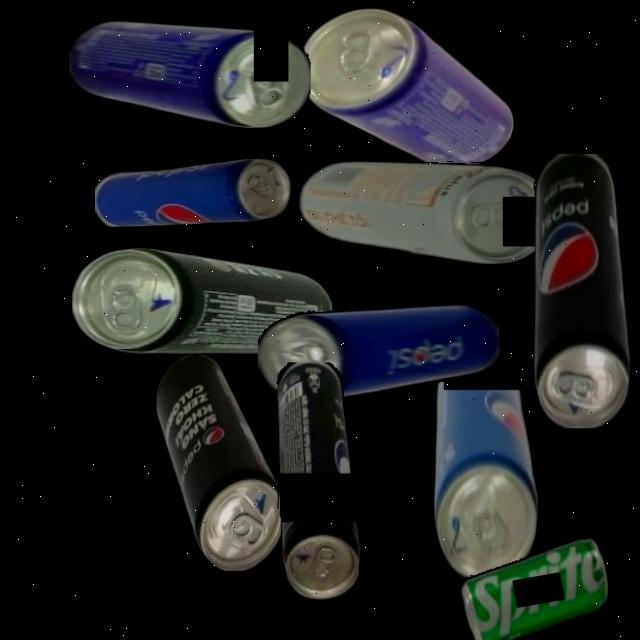debris: (297, 7, 514, 168), (155, 354, 284, 571), (72, 247, 332, 354), (532, 153, 630, 428), (298, 161, 552, 264), (68, 21, 311, 128), (432, 341, 538, 579), (258, 304, 500, 401), (276, 361, 360, 600), (455, 534, 617, 640), (94, 158, 292, 227)
